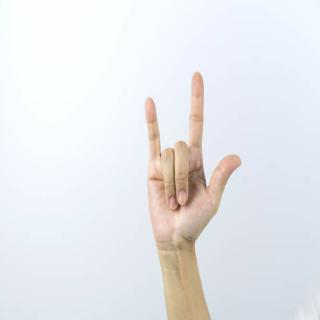I Love You: (139, 72, 241, 228)
